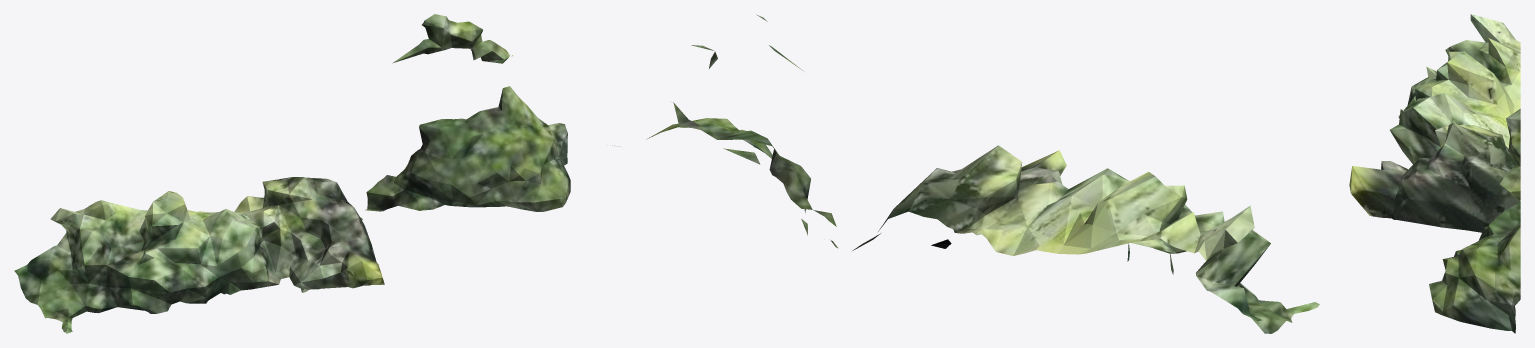
3 renders of one model, left to right at view 1: azimuth 30°, elevation 25°; view 2: azimuth 150°, elevation 25°; view 3: azimuth 270°, elevation 25°, orthographic. The views are drawn at different scales.
Size of the model in its own units: 26.11 by 8.12 by 7.6.
Materials: 1 (1 with a texture image).
